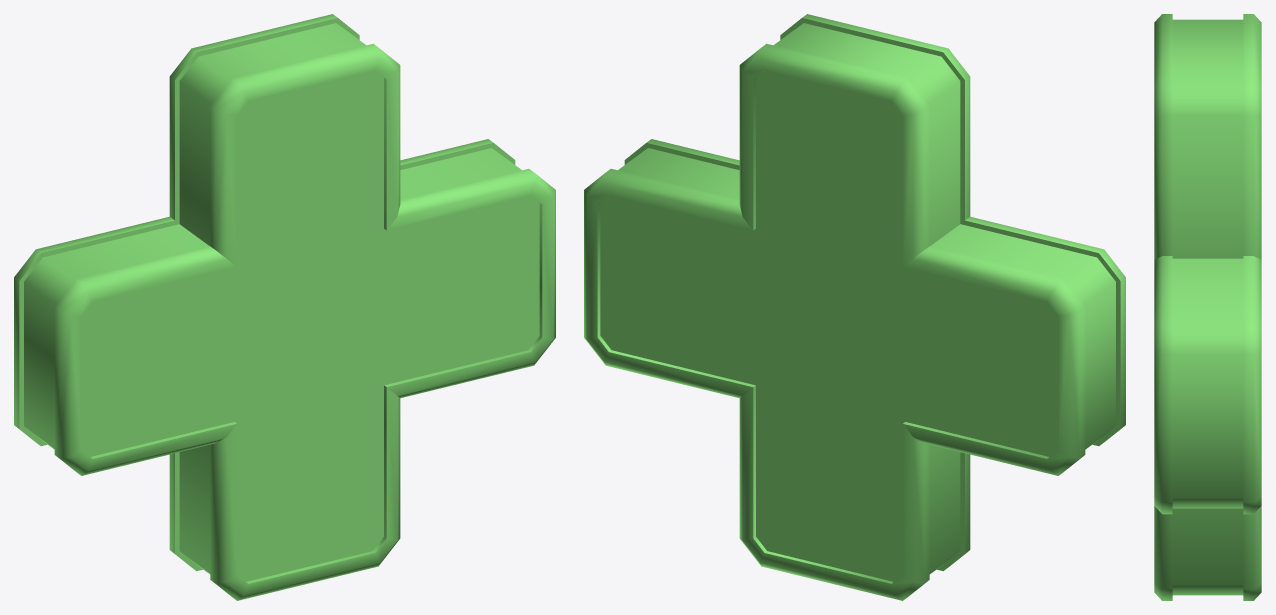
The model's file is HealTurret.fbx.
3 renders of one model, left to right at view 1: azimuth 30°, elevation 25°; view 2: azimuth 150°, elevation 25°; view 3: azimuth 270°, elevation 25°, orthographic.
Parts seen in each view (by area): view 1: Med_Kit.001; view 2: Med_Kit.001; view 3: Med_Kit.001.
Boxes of the visible parts, bbox=[...] form: Med_Kit.001: bbox=[14, 14, 555, 600]; Med_Kit.001: bbox=[584, 14, 1125, 600]; Med_Kit.001: bbox=[1154, 14, 1261, 600].
Bounding box in the file's own units: 290 × 290 × 54.64.
